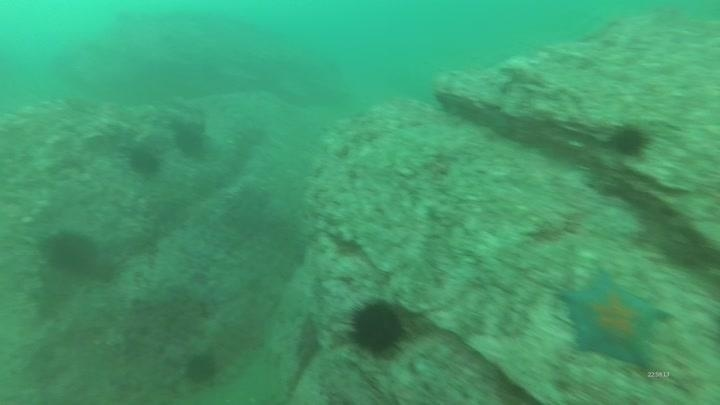echinus: (345, 296, 410, 359), (41, 228, 100, 276), (608, 121, 652, 160), (171, 121, 209, 160), (182, 350, 220, 386), (125, 143, 163, 178)
starfish: (557, 269, 671, 372)
